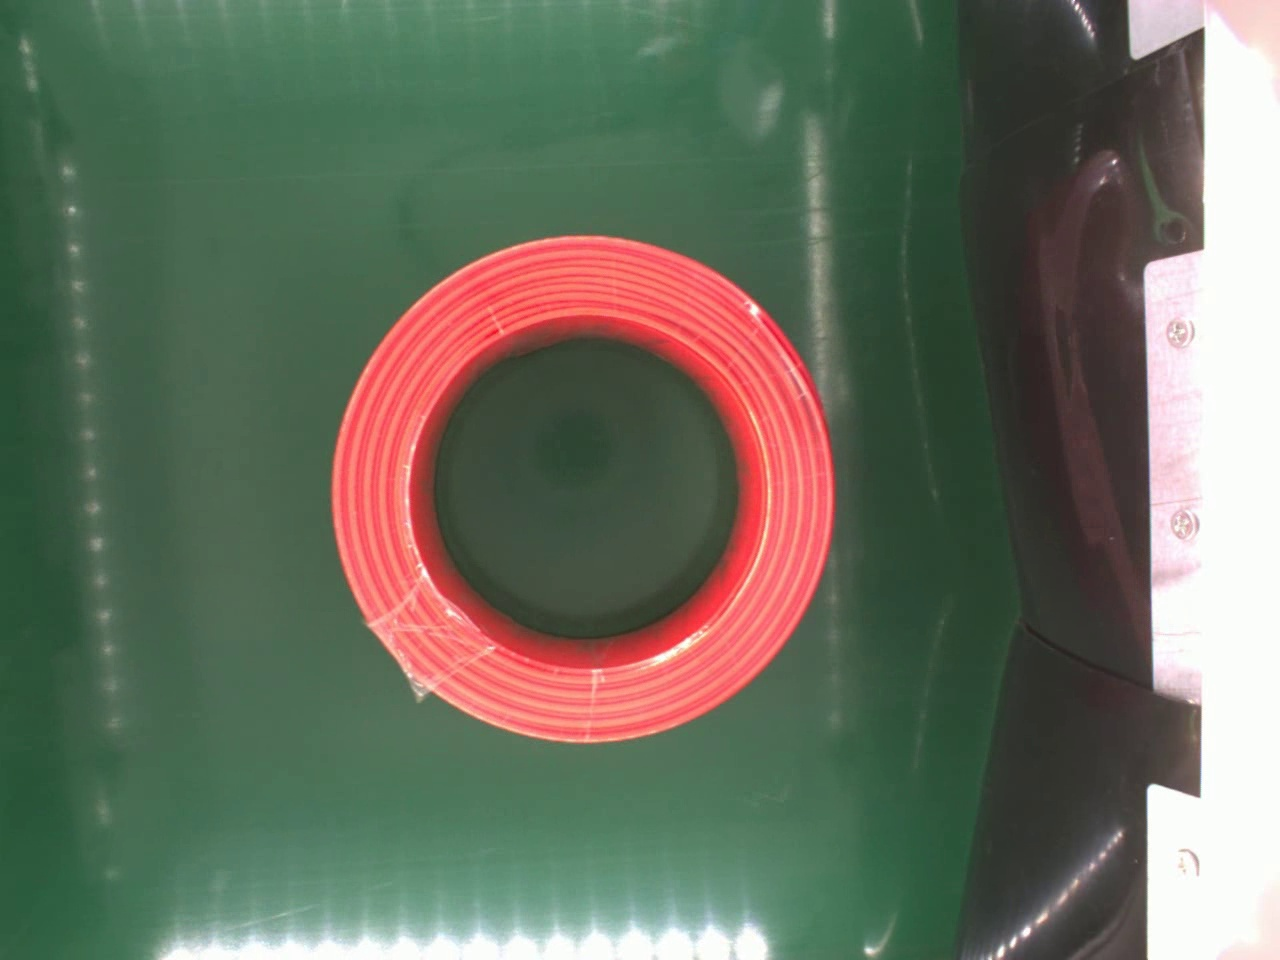red: (325, 228, 838, 746)
